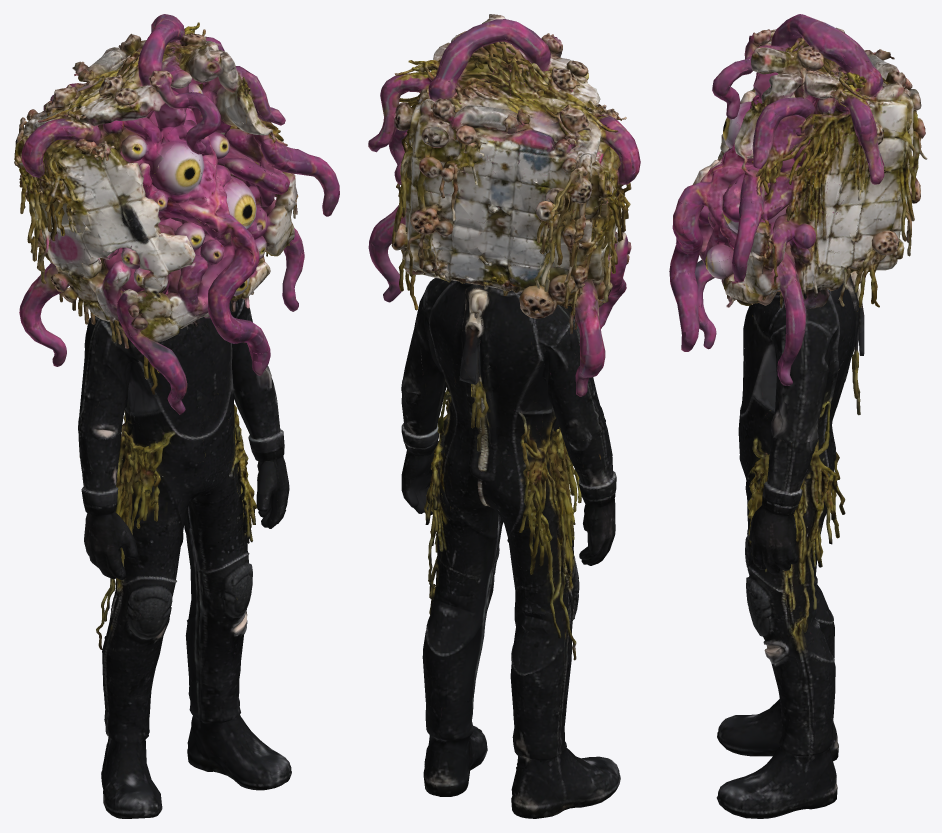
File: cubo_rivelato.glb
The picture shows the model from 3 angles, left to right: view 1: azimuth 30°, elevation 25°; view 2: azimuth 150°, elevation 25°; view 3: azimuth 270°, elevation 25°; orthographic projection. The views are drawn at different scales.
Parts seen in each view (by area): view 1: cubo_rivelato; view 2: cubo_rivelato; view 3: cubo_rivelato.
Part boxes in pixels (<box>): cubo_rivelato: <box>14,14,339,818</box>; cubo_rivelato: <box>368,14,640,818</box>; cubo_rivelato: <box>669,14,927,818</box>.
Size of the model in its own units: 0.4836 by 1.25 by 0.3857.
1 material, 1 textured.
